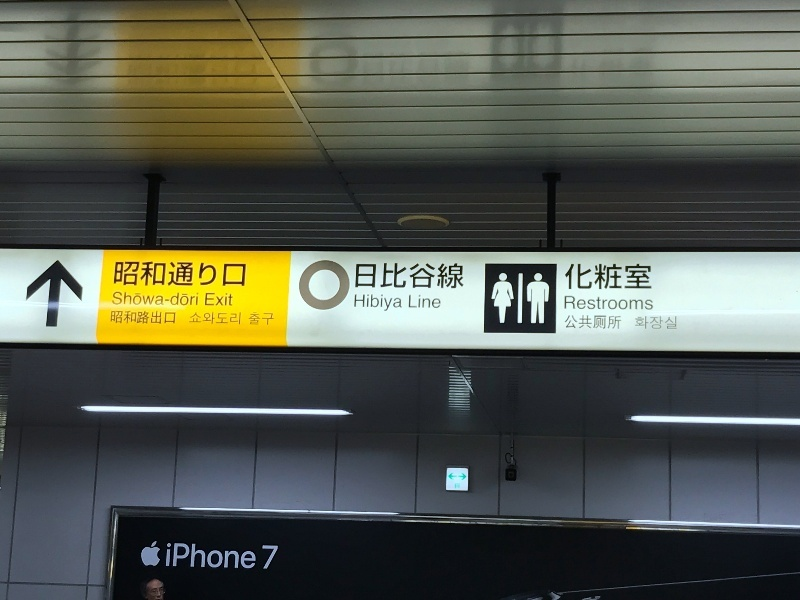text: (305, 260, 320, 312), (321, 260, 336, 312), (337, 260, 350, 312), (177, 540, 192, 572), (193, 540, 208, 572), (209, 540, 224, 572), (225, 540, 240, 572), (241, 540, 256, 572), (257, 540, 272, 572), (129, 259, 144, 290), (145, 259, 160, 290), (161, 259, 176, 290), (177, 259, 192, 290), (193, 259, 208, 290), (209, 259, 224, 290), (225, 259, 240, 290), (369, 261, 384, 290), (385, 261, 400, 290), (401, 261, 416, 290), (417, 261, 432, 290), (433, 261, 448, 290), (449, 261, 464, 290), (114, 259, 128, 290), (577, 262, 592, 290), (593, 262, 608, 290), (609, 262, 624, 290), (625, 262, 640, 290), (354, 261, 368, 290), (641, 262, 654, 290), (565, 262, 576, 290), (167, 540, 176, 572), (369, 293, 384, 312), (385, 293, 400, 312), (641, 315, 656, 333), (657, 315, 672, 333), (577, 295, 592, 312), (593, 295, 608, 312), (609, 295, 624, 312), (625, 295, 640, 312), (113, 290, 128, 307), (129, 290, 144, 307), (145, 290, 160, 307), (161, 290, 176, 307), (177, 290, 192, 307), (355, 293, 368, 312), (577, 315, 592, 331), (593, 315, 608, 331), (417, 294, 432, 310), (113, 310, 128, 325), (129, 310, 144, 325), (145, 310, 160, 325), (161, 310, 176, 325), (209, 293, 224, 308), (273, 540, 280, 572), (563, 295, 576, 312), (641, 295, 654, 312), (241, 259, 248, 290), (257, 312, 272, 326), (609, 315, 622, 331), (193, 312, 208, 325), (209, 312, 224, 325), (225, 312, 240, 325), (566, 315, 576, 331), (433, 294, 442, 310), (225, 293, 234, 308), (409, 294, 416, 310), (302, 260, 304, 312), (193, 290, 199, 307), (635, 315, 640, 333), (673, 315, 678, 333), (250, 312, 256, 326), (401, 293, 404, 312), (110, 310, 112, 325), (206, 293, 208, 308), (465, 261, 466, 290), (190, 312, 192, 325), (177, 310, 178, 325), (273, 312, 274, 326), (241, 312, 242, 325)
